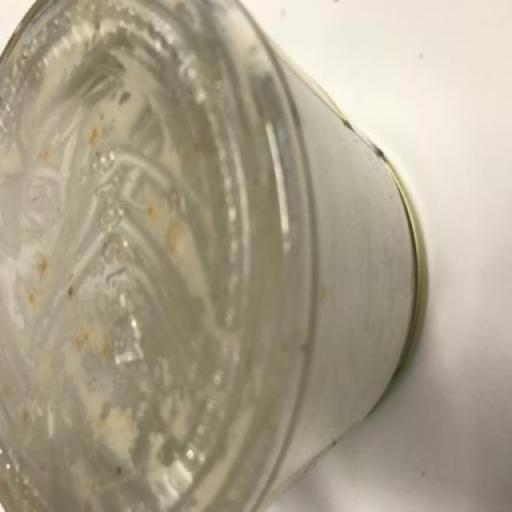glass: (0, 0, 434, 512)
